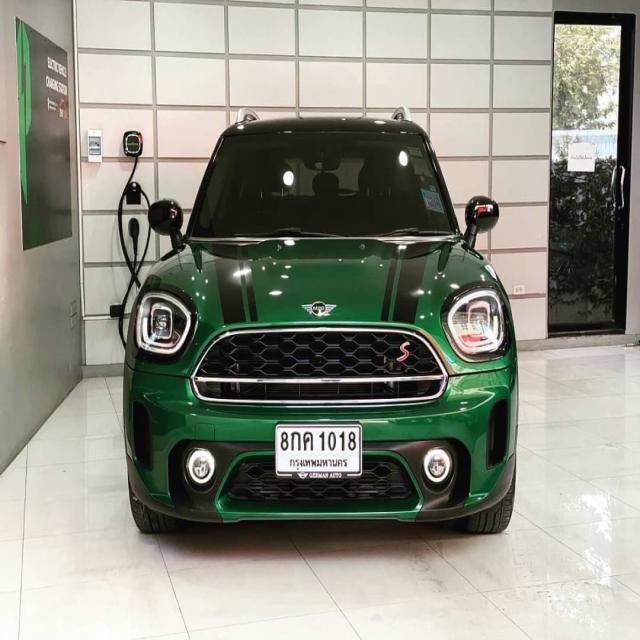license_plate: (273, 417, 365, 484)
